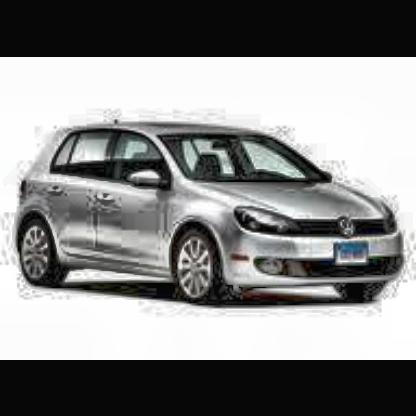Volkswagen Golf Hatchback 2012: (21, 116, 406, 317)
